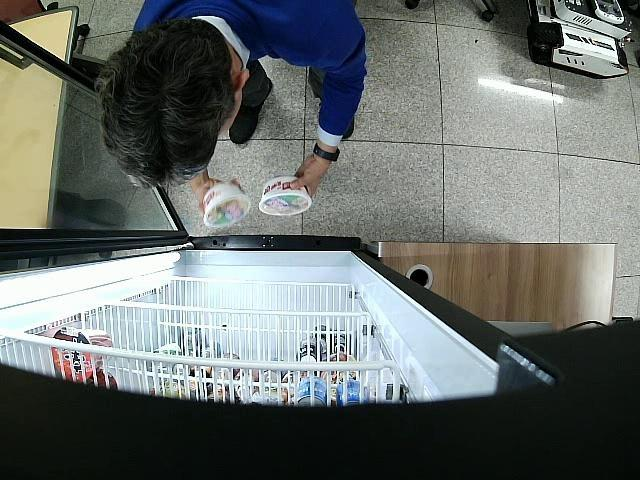09_yukGaeJang: (202, 179, 252, 228), (258, 176, 312, 216)
